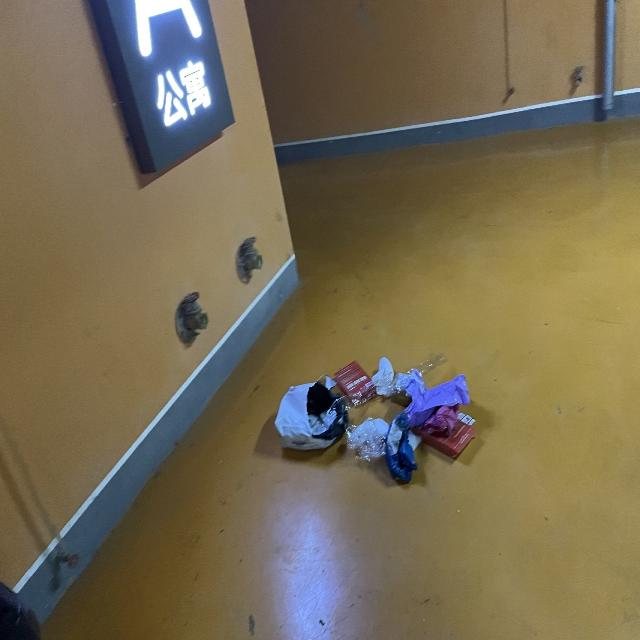garbage: (273, 352, 474, 483)
